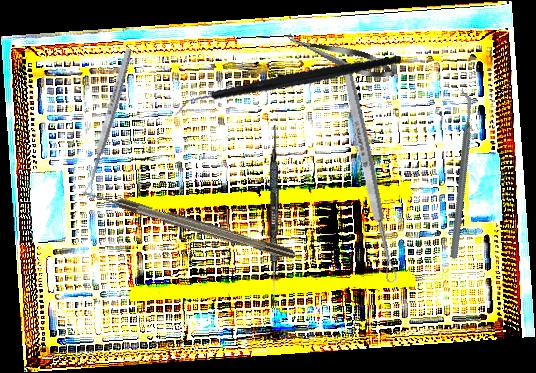Chopper: (174, 22, 402, 150), (387, 87, 532, 261)
Hook Surgical: (79, 185, 297, 262)
Micro Scissor: (284, 27, 398, 85)
Spatula Surgical: (267, 124, 281, 308)
Surgical Spoon: (340, 70, 400, 285), (82, 47, 134, 198)
